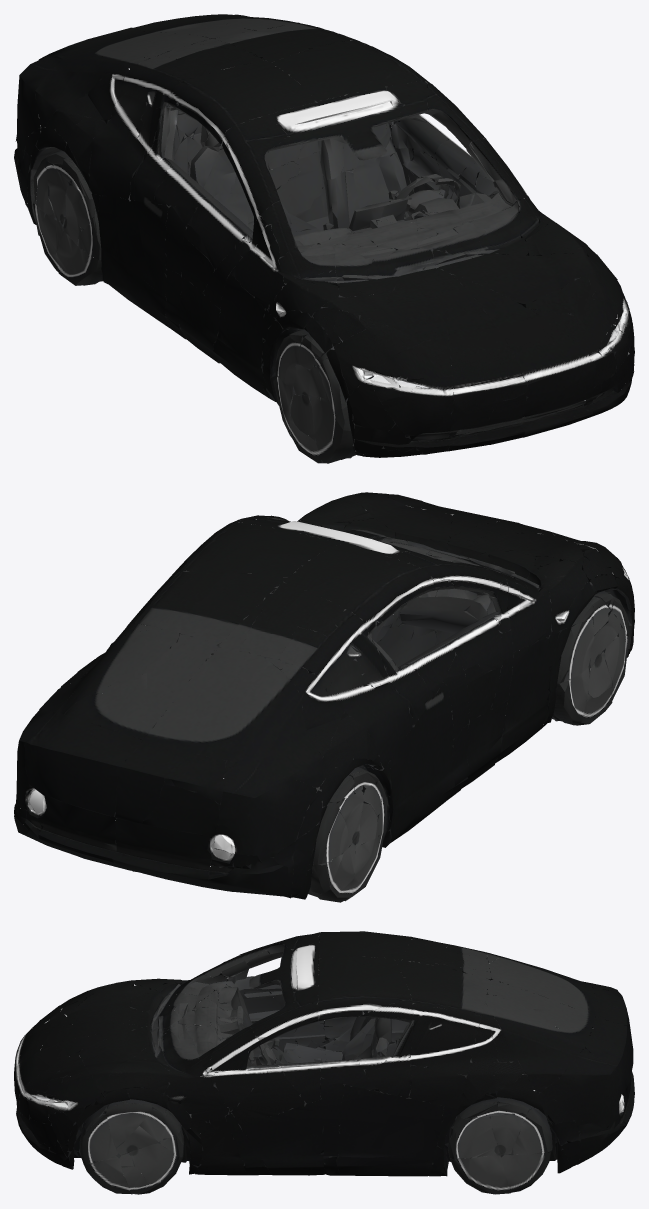
The model's file is cybercab-latest-candidate.glb.
The picture shows the model from 3 angles, top to bottom: view 1: azimuth 30°, elevation 25°; view 2: azimuth 150°, elevation 25°; view 3: azimuth 270°, elevation 25°; orthographic projection. The views are drawn at different scales.
Parts seen in each view (by area): view 1: Body, Wheel_RL, Wheel_FL; view 2: Body, Wheel_FL, Wheel_RL; view 3: Body, Wheel_RR, Wheel_FR.
Boxes of the visible parts, x1,y1,x2,y2 form: Body: [14, 14, 634, 457]; Wheel_RL: [262, 310, 384, 463]; Wheel_FL: [20, 127, 130, 285]; Body: [14, 492, 634, 897]; Wheel_FL: [278, 756, 388, 902]; Wheel_RL: [512, 574, 634, 725]; Body: [14, 931, 634, 1176]; Wheel_RR: [68, 1087, 202, 1194]; Wheel_FR: [446, 1085, 581, 1194].
Size of the model in its own units: 1.88 by 1.43 by 4.45.
1 material, 1 textured.
